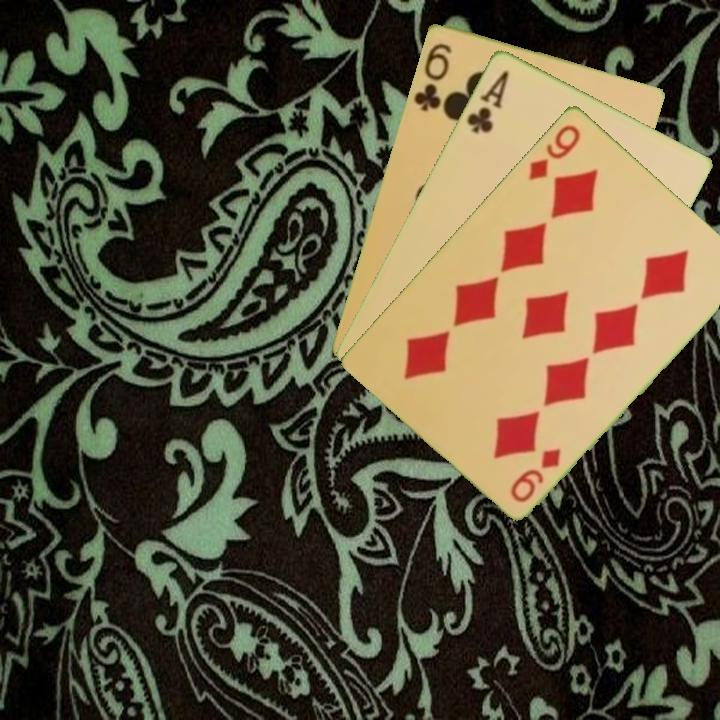6c: (409, 39, 455, 114)
9d: (524, 120, 583, 183), (506, 444, 564, 505)
Ac: (462, 65, 512, 136)
